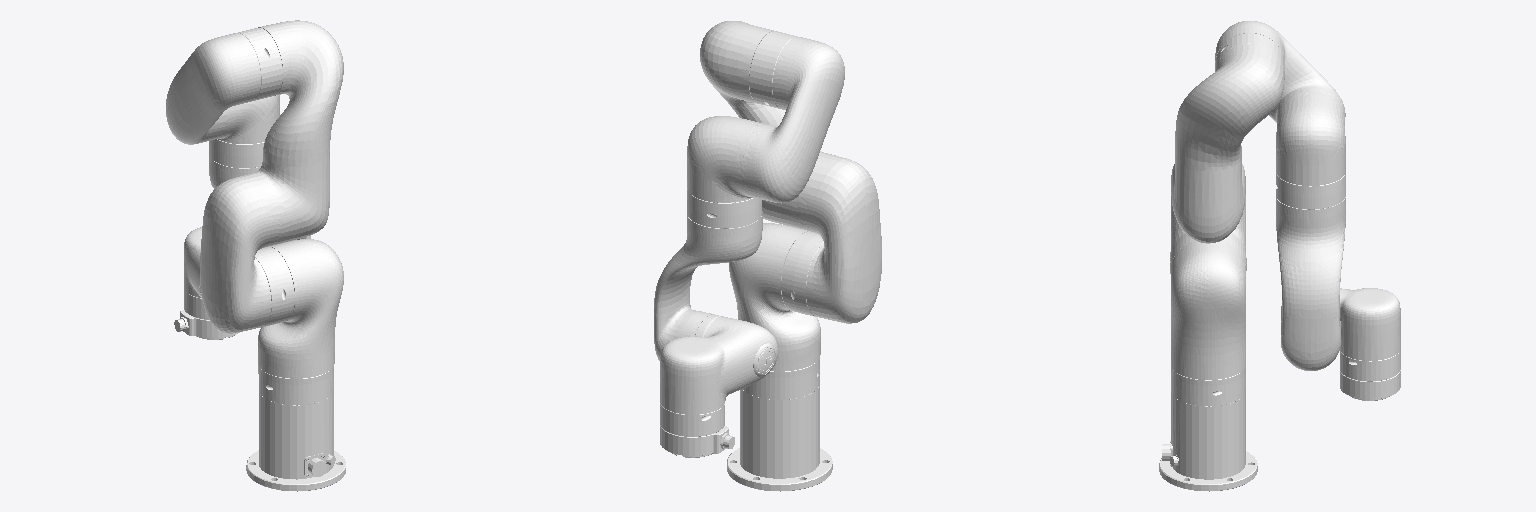
The robot description file, URDF, robot "xarm_urdf":
<?xml version="1.0" encoding="utf-8"?>
<!-- This URDF was automatically created by SolidWorks to URDF Exporter! Originally created by Stephen Brawner (brawner@gmail.com) 
     Commit Version: 1.6.0-4-g7f85cfe  Build Version: 1.6.7995.38578
     For more information, please see http://wiki.ros.org/sw_urdf_exporter -->
<robot
  name="xarm_urdf">
  <link
    name="base_link">
    <inertial>
      <origin
        xyz="-0.024415 0.090248 -0.015635"
        rpy="0 0 0" />
      <mass
        value="1.1181" />
      <inertia
        ixx="0.001685"
        ixy="9.2957E-07"
        ixz="-1.6957E-06"
        iyy="0.0013787"
        iyz="9.0262E-06"
        izz="0.0016671" />
    </inertial>
    <visual>
      <origin
        xyz="0 0 0"
        rpy="0 0 0" />
      <geometry>
        <mesh
          filename="package://xarm_urdf/meshes/base_link.STL" />
      </geometry>
      <material
        name="">
        <color
          rgba="1 1 1 1" />
      </material>
    </visual>
    <collision>
      <origin
        xyz="0 0 0"
        rpy="0 0 0" />
      <geometry>
        <mesh
          filename="package://xarm_urdf/meshes/base_link.STL" />
      </geometry>
    </collision>
  </link>
  <link
    name="Link2">
    <inertial>
      <origin
        xyz="8.1362E-08 0.0034088 0.086994"
        rpy="0 0 0" />
      <mass
        value="1.3381" />
      <inertia
        ixx="0.0030614"
        ixy="6.6429E-10"
        ixz="-5.6484E-07"
        iyy="0.0032341"
        iyz="0.00016586"
        izz="0.0014021" />
    </inertial>
    <visual>
      <origin
        xyz="0 0 0"
        rpy="0 0 0" />
      <geometry>
        <mesh
          filename="package://xarm_urdf/meshes/Link2.STL" />
      </geometry>
      <material
        name="">
        <color
          rgba="1 1 1 1" />
      </material>
    </visual>
    <collision>
      <origin
        xyz="0 0 0"
        rpy="0 0 0" />
      <geometry>
        <mesh
          filename="package://xarm_urdf/meshes/Link2.STL" />
      </geometry>
    </collision>
  </link>
  <joint
    name="joint2"
    type="continuous">
    <origin
      xyz="-0.02444 0.015911 0.16646"
      rpy="0 0 1.5708" />
    <parent
      link="base_link" />
    <child
      link="Link2" />
    <axis
      xyz="0 0 1" />
    <limit
      lower="0"
      upper="0"
      effort="0"
      velocity="0" />
  </joint>
  <link
    name="Link3">
    <inertial>
      <origin
        xyz="0.012168 -0.15565 -0.035665"
        rpy="0 0 0" />
      <mass
        value="2.8892" />
      <inertia
        ixx="0.032819"
        ixy="0.0033762"
        ixz="0.0012993"
        iyy="0.010159"
        iyz="-0.010876"
        izz="0.027588" />
    </inertial>
    <visual>
      <origin
        xyz="0 0 0"
        rpy="0 0 0" />
      <geometry>
        <mesh
          filename="package://xarm_urdf/meshes/Link3.STL" />
      </geometry>
      <material
        name="">
        <color
          rgba="1 1 1 1" />
      </material>
    </visual>
    <collision>
      <origin
        xyz="0 0 0"
        rpy="0 0 0" />
      <geometry>
        <mesh
          filename="package://xarm_urdf/meshes/Link3.STL" />
      </geometry>
    </collision>
  </link>
  <joint
    name="joint3"
    type="revolute">
    <origin
      xyz="0 0.0621 0.118"
      rpy="-1.5708 0 0" />
    <parent
      link="Link2" />
    <child
      link="Link3" />
    <axis
      xyz="0 0 1" />
    <limit
      lower="-2.0595"
      upper="2.0944"
      effort="0"
      velocity="0" />
  </joint>
  <link
    name="Link4">
    <inertial>
      <origin
        xyz="0.05723 0.071725 -0.003541"
        rpy="0 0 0" />
      <mass
        value="1.559" />
      <inertia
        ixx="0.0048668"
        ixy="-0.0016529"
        ixz="0.0009458"
        iyy="0.0045374"
        iyz="0.0011458"
        izz="0.0048084" />
    </inertial>
    <visual>
      <origin
        xyz="0 0 0"
        rpy="0 0 0" />
      <geometry>
        <mesh
          filename="package://xarm_urdf/meshes/Link4.STL" />
      </geometry>
      <material
        name="">
        <color
          rgba="1 1 1 1" />
      </material>
    </visual>
    <collision>
      <origin
        xyz="0 0 0"
        rpy="0 0 0" />
      <geometry>
        <mesh
          filename="package://xarm_urdf/meshes/Link4.STL" />
      </geometry>
    </collision>
  </link>
  <joint
    name="joint4"
    type="revolute">
    <origin
      xyz="0.053148 -0.28478 -0.0178"
      rpy="0 0 0" />
    <parent
      link="Link3" />
    <child
      link="Link4" />
    <axis
      xyz="0 0 1" />
    <limit
      lower="-3.927"
      upper="0.19199"
      effort="0"
      velocity="0" />
  </joint>
  <link
    name="Link5">
    <inertial>
      <origin
        xyz="-5.3149E-07 0.030899 0.10125"
        rpy="0 0 0" />
      <mass
        value="0.84286" />
      <inertia
        ixx="0.0046465"
        ixy="2.6629E-10"
        ixz="-1.2154E-09"
        iyy="0.0041624"
        iyz="-0.001225"
        izz="0.0011818" />
    </inertial>
    <visual>
      <origin
        xyz="0 0 0"
        rpy="0 0 0" />
      <geometry>
        <mesh
          filename="package://xarm_urdf/meshes/Link5.STL" />
      </geometry>
      <material
        name="">
        <color
          rgba="1 1 1 1" />
      </material>
    </visual>
    <collision>
      <origin
        xyz="0 0 0"
        rpy="0 0 0" />
      <geometry>
        <mesh
          filename="package://xarm_urdf/meshes/Link5.STL" />
      </geometry>
    </collision>
  </link>
  <joint
    name="joint5"
    type="continuous">
    <origin
      xyz="0.077749 0.16061 -0.0443"
      rpy="-1.5708 0 0" />
    <parent
      link="Link4" />
    <child
      link="Link5" />
    <axis
      xyz="0 0 1" />
    <limit
      lower="0"
      upper="0"
      effort="0"
      velocity="0" />
  </joint>
  <link
    name="Link6">
    <inertial>
      <origin
        xyz="0.045987 0.0093462 0.022466"
        rpy="0 0 0" />
      <mass
        value="0.82753" />
      <inertia
        ixx="0.00064253"
        ixy="-2.4535E-05"
        ixz="0.00022583"
        iyy="0.0015836"
        iyz="7.043E-06"
        izz="0.0015057" />
    </inertial>
    <visual>
      <origin
        xyz="0 0 0"
        rpy="0 0 0" />
      <geometry>
        <mesh
          filename="package://xarm_urdf/meshes/Link6.STL" />
      </geometry>
      <material
        name="">
        <color
          rgba="1 1 1 1" />
      </material>
    </visual>
    <collision>
      <origin
        xyz="0 0 0"
        rpy="0 0 0" />
      <geometry>
        <mesh
          filename="package://xarm_urdf/meshes/Link6.STL" />
      </geometry>
    </collision>
  </link>
  <joint
    name="joint6"
    type="revolute">
    <origin
      xyz="1.1469E-05 0.014 0.1817"
      rpy="1.5708 0 0" />
    <parent
      link="Link5" />
    <child
      link="Link6" />
    <axis
      xyz="0 0 1" />
    <limit
      lower="-1.693"
      upper="3.1416"
      effort="0"
      velocity="0" />
  </joint>
  <link
    name="EE_Link">
    <inertial>
      <origin
        xyz="1.5981E-07 -0.0018015 0.015619"
        rpy="0 0 0" />
      <mass
        value="0.13871" />
      <inertia
        ixx="6.9606E-05"
        ixy="9.5725E-10"
        ixz="8.2856E-12"
        iyy="5.8396E-05"
        iyz="-2.9054E-07"
        izz="0.00010881" />
    </inertial>
    <visual>
      <origin
        xyz="0 0 0"
        rpy="0 0 0" />
      <geometry>
        <mesh
          filename="package://xarm_urdf/meshes/EE_Link.STL" />
      </geometry>
      <material
        name="">
        <color
          rgba="1 1 1 1" />
      </material>
    </visual>
    <collision>
      <origin
        xyz="0 0 0"
        rpy="0 0 0" />
      <geometry>
        <mesh
          filename="package://xarm_urdf/meshes/EE_Link.STL" />
      </geometry>
    </collision>
  </link>
  <joint
    name="joint7"
    type="continuous">
    <origin
      xyz="0.075889 0.063504 0.014"
      rpy="-1.5708 0 0" />
    <parent
      link="Link6" />
    <child
      link="EE_Link" />
    <axis
      xyz="0 0 1" />
    <limit
      lower="0"
      upper="0"
      effort="0"
      velocity="0" />
  </joint>
</robot>

--- Render facts (derived) ---
3 views of the same robot in one strip: view 1: azimuth 30°, elevation 25°; view 2: azimuth 150°, elevation 25°; view 3: azimuth 270°, elevation 25° (orthographic).
Model xarm_urdf with 7 links and 6 joints (3 revolute, 3 continuous), rooted at base_link, posed all joints at 0.
Links seen in each view (by area): view 1: Link3, Link4, Link2, base_link, Link6, EE_Link, Link5; view 2: Link3, Link4, base_link, Link6, Link2, Link5, EE_Link; view 3: Link3, Link2, Link4, Link5, base_link, Link6, EE_Link.
Link boxes in pixels (x1,y1,x2,y2): Link3: [200, 20, 343, 333]; Link4: [166, 33, 279, 167]; Link2: [255, 239, 343, 378]; base_link: [246, 365, 345, 491]; Link6: [184, 227, 208, 319]; EE_Link: [174, 310, 239, 339]; Link5: [209, 156, 310, 239]; Link3: [700, 21, 881, 323]; Link4: [687, 37, 844, 228]; base_link: [727, 358, 832, 491]; Link6: [660, 316, 777, 436]; Link2: [729, 223, 823, 371]; Link5: [654, 216, 762, 360]; EE_Link: [660, 425, 734, 457]; Link3: [1170, 33, 1284, 257]; Link2: [1170, 233, 1246, 379]; Link4: [1215, 21, 1345, 209]; Link5: [1276, 197, 1345, 370]; base_link: [1159, 367, 1257, 491]; Link6: [1281, 288, 1400, 381]; EE_Link: [1340, 370, 1400, 400].
Size in the robot's own frame: 0.21 by 0.3088 by 0.5961 metres.
Meshes: 7 distinct files referenced, 7 mesh visuals loaded (7 binary STL).
